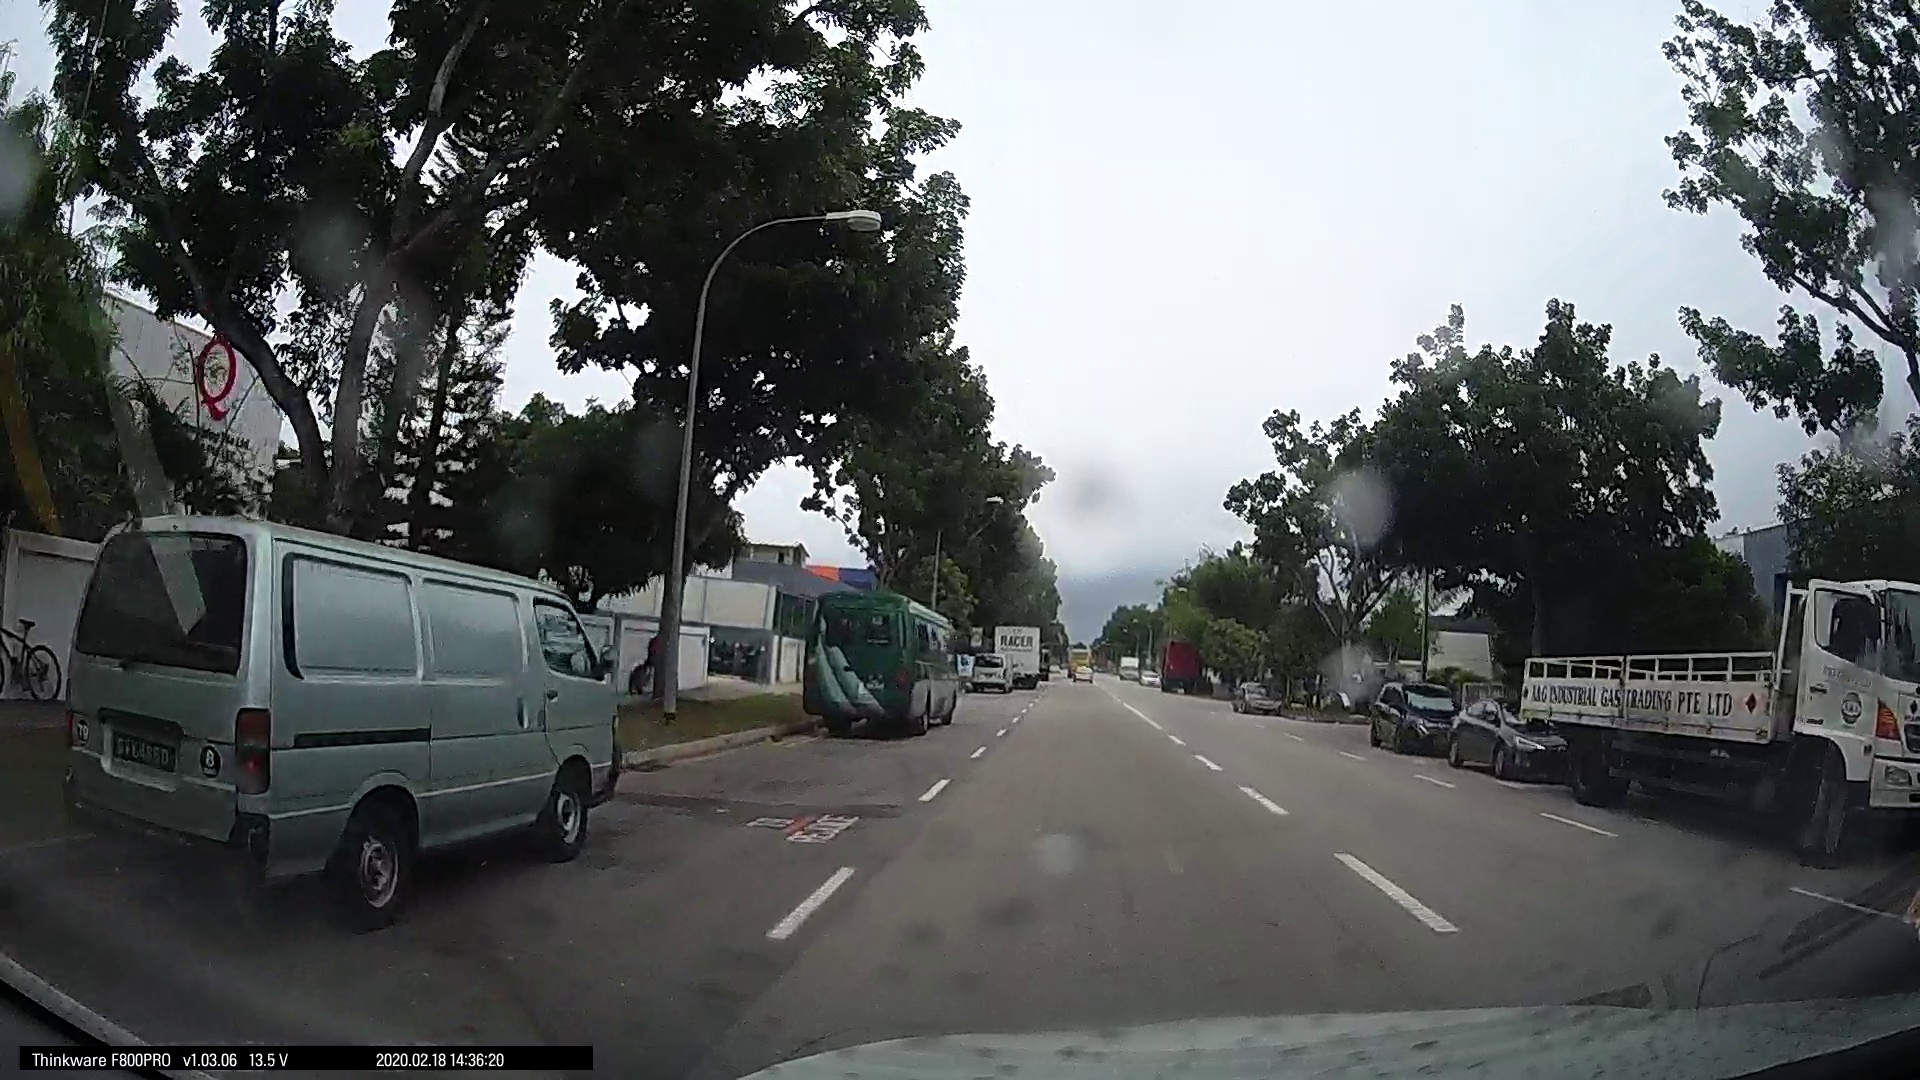Heavy Vehicle: (1539, 562, 1919, 824)
Light Vehicle: (49, 524, 632, 916), (1449, 699, 1563, 779), (1366, 676, 1453, 756)
